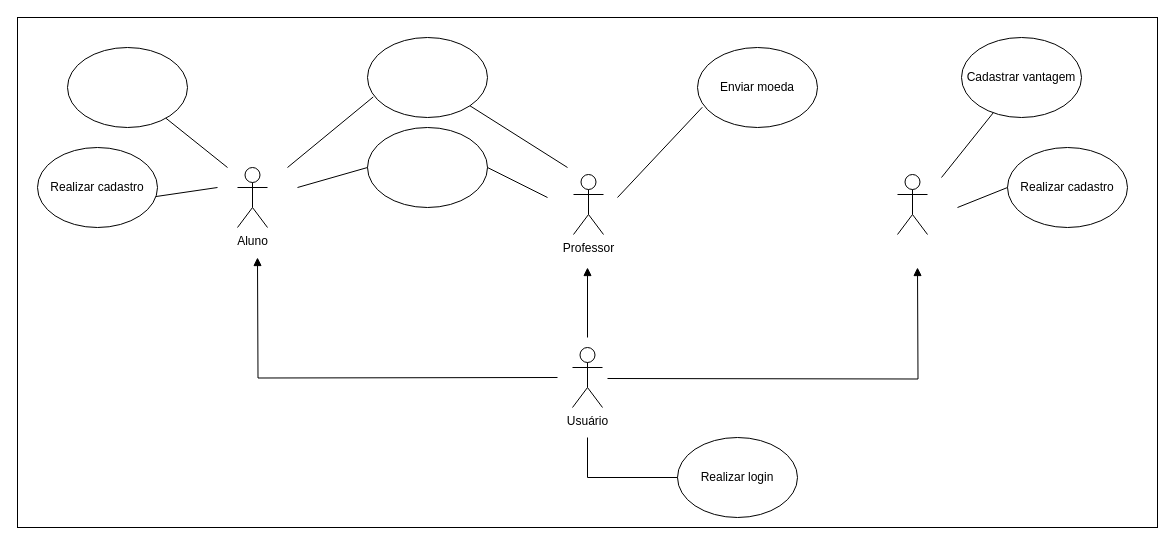
Some shapes in this 1175 by 545 pixel diagram are drawn without their labels. Each missing label, with the centre of its shape:
Consultar extrato da conta: point 427,167
Consultar transações: point 427,77
Empresa: point 912,204
Resgatar vantagem: point 127,87
